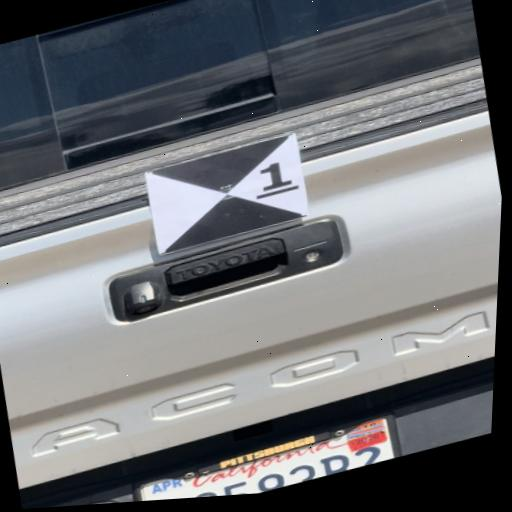target1: (141, 132, 313, 256)
